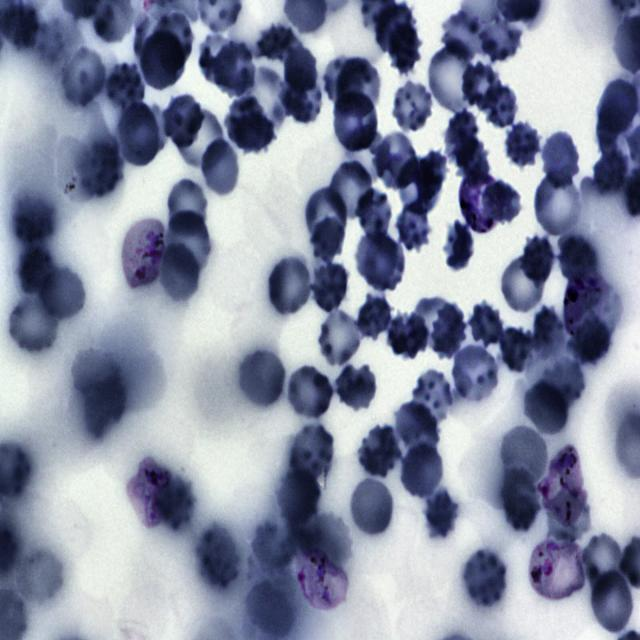red blood cell: (532, 170, 585, 239), (429, 41, 474, 120), (7, 290, 61, 355), (137, 27, 188, 92), (115, 101, 163, 170), (498, 252, 549, 316), (236, 346, 286, 411), (57, 44, 106, 110), (588, 569, 636, 636), (451, 343, 502, 406), (238, 66, 287, 131), (36, 261, 88, 322), (174, 108, 226, 169), (330, 90, 380, 153), (196, 524, 242, 592), (356, 230, 406, 292), (461, 546, 509, 610), (521, 378, 571, 439), (155, 240, 201, 306), (165, 212, 211, 278), (266, 254, 314, 317), (348, 476, 396, 539), (328, 158, 376, 221), (498, 463, 540, 534), (398, 440, 446, 501), (211, 38, 259, 99), (335, 56, 382, 118), (285, 364, 335, 422), (82, 375, 127, 439), (300, 515, 354, 568), (288, 419, 333, 481), (393, 400, 440, 459), (276, 468, 320, 530), (164, 177, 210, 236), (374, 130, 420, 189), (535, 358, 585, 412), (502, 426, 548, 484), (150, 10, 194, 70), (78, 142, 125, 198), (200, 137, 242, 199), (424, 303, 468, 362), (582, 534, 624, 595), (411, 369, 455, 427), (318, 310, 363, 366), (390, 80, 436, 134), (442, 10, 490, 61), (306, 184, 347, 243), (397, 158, 439, 215), (565, 316, 612, 366), (334, 360, 379, 412), (358, 426, 401, 480), (163, 93, 204, 149), (540, 132, 582, 186), (278, 74, 322, 125), (413, 298, 456, 350), (374, 3, 417, 54), (324, 56, 364, 110), (461, 61, 504, 111), (502, 120, 544, 171), (386, 310, 428, 361), (444, 108, 479, 168), (157, 476, 196, 529), (355, 188, 393, 242), (557, 233, 598, 283), (225, 95, 266, 145), (311, 262, 351, 312), (200, 32, 239, 82), (355, 293, 393, 344), (231, 113, 277, 155), (481, 76, 516, 130), (394, 203, 433, 251), (108, 62, 144, 114), (424, 488, 459, 541), (17, 244, 54, 294), (479, 20, 522, 63), (482, 180, 524, 224), (256, 22, 300, 64), (309, 217, 346, 266), (414, 150, 448, 203), (15, 200, 53, 247), (453, 134, 490, 182), (532, 304, 564, 358), (590, 150, 630, 192), (282, 47, 318, 91), (519, 237, 554, 282), (388, 24, 418, 74), (499, 327, 532, 371), (470, 302, 502, 347), (444, 218, 472, 269)
trophozoite: (526, 536, 586, 601), (537, 445, 585, 526), (120, 217, 168, 292), (296, 549, 348, 611), (128, 456, 170, 530), (459, 171, 504, 234), (564, 272, 608, 336)
